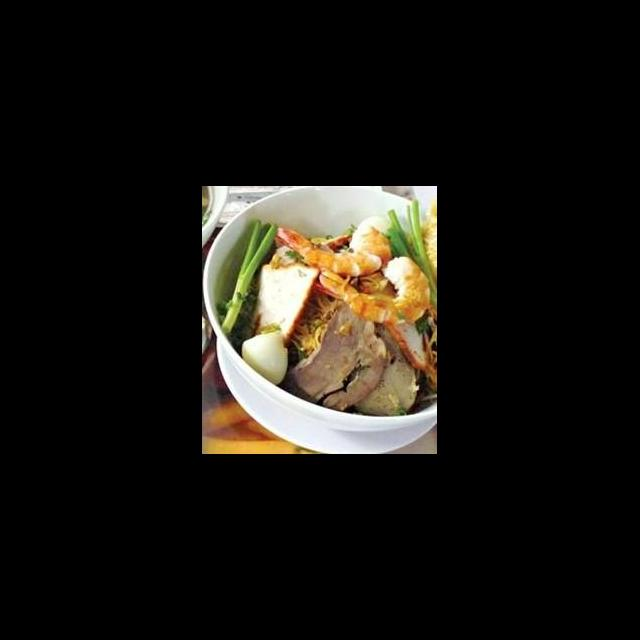gan: (284, 293, 391, 416), (348, 319, 422, 419)
tom: (314, 252, 434, 327), (270, 218, 398, 279)
trung: (238, 329, 292, 387)
